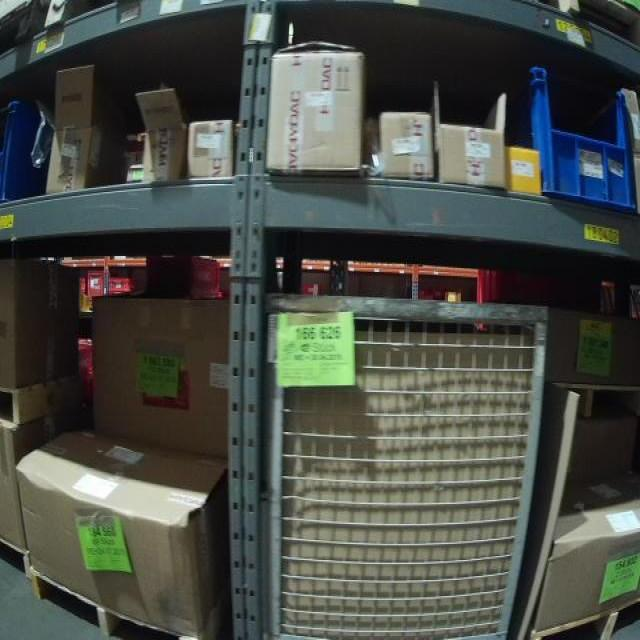pallet: (27, 568, 220, 640), (531, 595, 640, 639), (0, 374, 85, 426), (0, 539, 30, 575)
small_load_carrier: (499, 61, 635, 214), (2, 99, 58, 207), (143, 257, 216, 291), (108, 269, 141, 291), (75, 339, 93, 376), (163, 291, 225, 300), (88, 270, 107, 297), (77, 275, 88, 290)
stillage: (262, 282, 559, 638)
